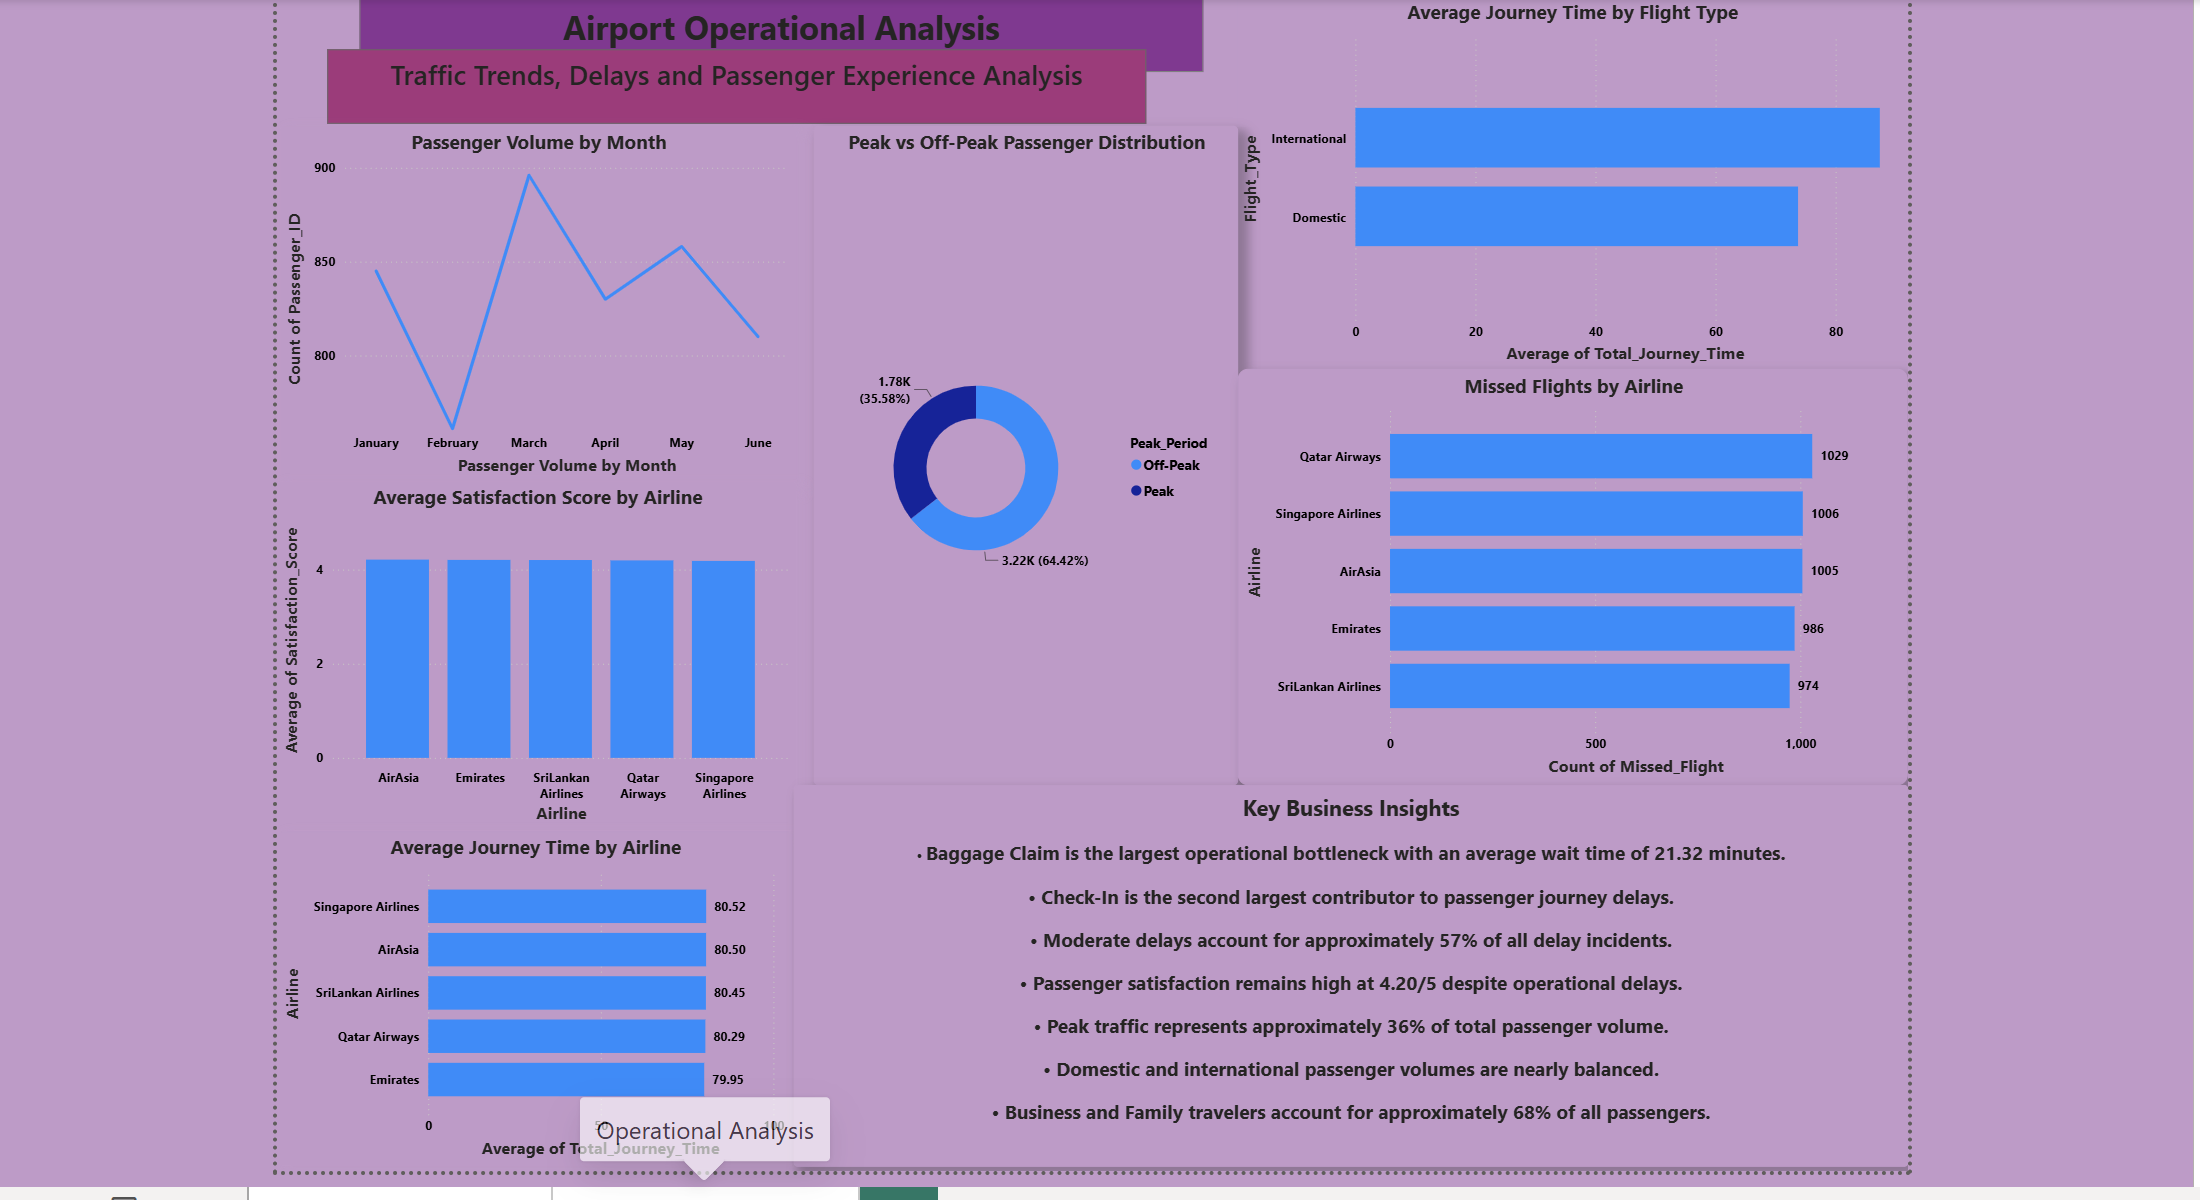

The page's visual inventory and layout, read from the dashboard file:
{"tool":"powerbi","page":{"name":" Operational Analysis","canvas":[1600,1150],"ordinal":1},"visuals":[{"type":"textbox","box":[80.9,0,827.7,71.8],"z":0},{"type":"textbox","box":[48.9,48.9,803.3,73.3],"z":2000},{"type":"lineChart","title":"Passenger Volume by Month","fields":{"Y":["CountNonNull(airport_passenger_journey_cleaned.Passenger_ID)"],"Category":["airport_passenger_journey_cleaned.Date.Variation.Date Hierarchy.Month"]},"box":[2,123.5,508,350.6],"z":3000},{"type":"clusteredColumnChart","title":"Average Satisfaction Score by Airline","fields":{"Category":["airport_passenger_journey_cleaned.Airline"],"Y":["Avg(airport_passenger_journey_cleaned.Satisfaction_Score)"]},"box":[0,474.1,510,342.6],"z":4000},{"type":"clusteredBarChart","title":"Average Journey Time by Flight Type","fields":{"Category":["airport_passenger_journey_cleaned.Flight_Type"],"Y":["Avg(airport_passenger_journey_cleaned.Total_Journey_Time)"]},"box":[942.3,0,657.4,362.6],"z":5000},{"type":"donutChart","title":"Peak vs Off-Peak Passenger Distribution","fields":{"Y":["CountNonNull(airport_passenger_journey_cleaned.Passenger_ID)"],"Category":["airport_passenger_journey_cleaned.Peak_Period"]},"box":[525.9,123.5,416.4,647.4],"z":6000},{"type":"clusteredBarChart","title":"Missed Flights by Airline","fields":{"Category":["airport_passenger_journey_cleaned.Airline"],"Y":["CountNonNull(airport_passenger_journey_cleaned.Missed_Flight)"]},"box":[942.3,362.6,657.4,408.4],"z":7000},{"type":"clusteredBarChart","title":"Average Journey Time by Airline","fields":{"Category":["airport_passenger_journey_cleaned.Airline"],"Y":["Avg(airport_passenger_journey_cleaned.Total_Journey_Time)"]},"box":[0,816.8,506,328.7],"z":8000},{"type":"textbox","box":[506,771,1093.7,374.5],"z":9000}]}

Visuals, with their boxes on the page's 1600x1150 design canvas (x1, y1, x2, y2). These are canvas units, not pixel positions in the 2200x1200 screenshot, which may show the page scaled, cropped or inside an application window:
textbox: {"left": 81, "top": 0, "right": 909, "bottom": 72}
textbox: {"left": 49, "top": 49, "right": 852, "bottom": 122}
"Passenger Volume by Month" lineChart: {"left": 2, "top": 124, "right": 510, "bottom": 474}
"Average Satisfaction Score by Airline" clusteredColumnChart: {"left": 0, "top": 474, "right": 510, "bottom": 817}
"Average Journey Time by Flight Type" clusteredBarChart: {"left": 942, "top": 0, "right": 1600, "bottom": 363}
"Peak vs Off-Peak Passenger Distribution" donutChart: {"left": 526, "top": 124, "right": 942, "bottom": 771}
"Missed Flights by Airline" clusteredBarChart: {"left": 942, "top": 363, "right": 1600, "bottom": 771}
"Average Journey Time by Airline" clusteredBarChart: {"left": 0, "top": 817, "right": 506, "bottom": 1146}
textbox: {"left": 506, "top": 771, "right": 1600, "bottom": 1146}
